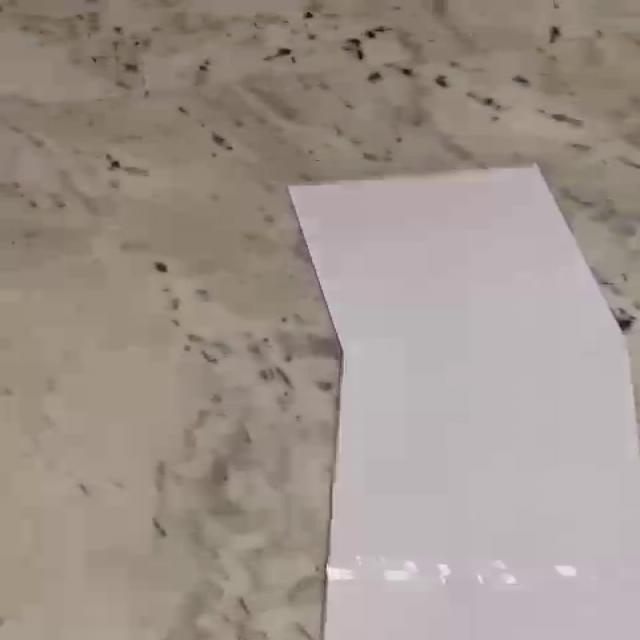road: (291, 167, 639, 640)
